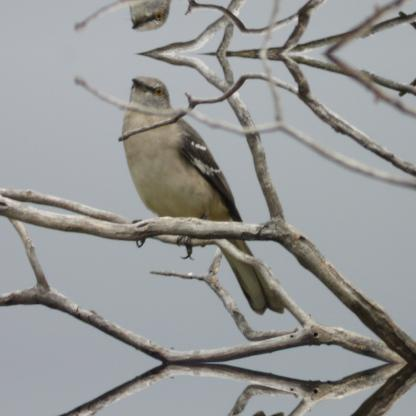Bird: (121, 76, 287, 314)
